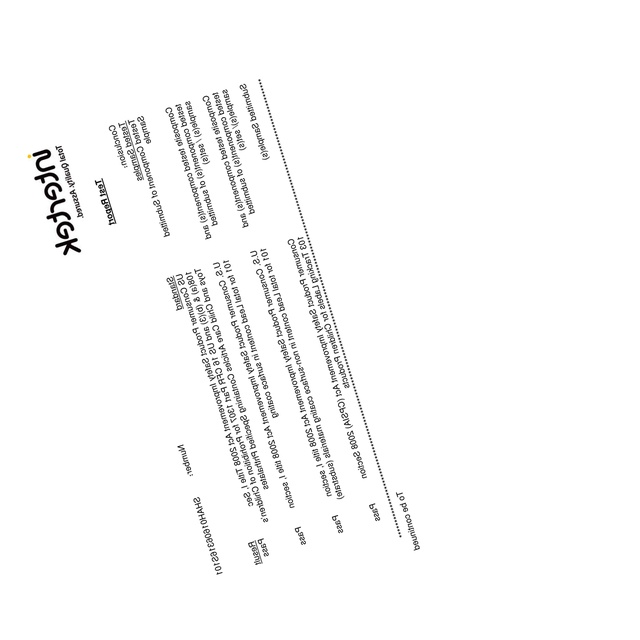intertek: (25, 147, 84, 260)
